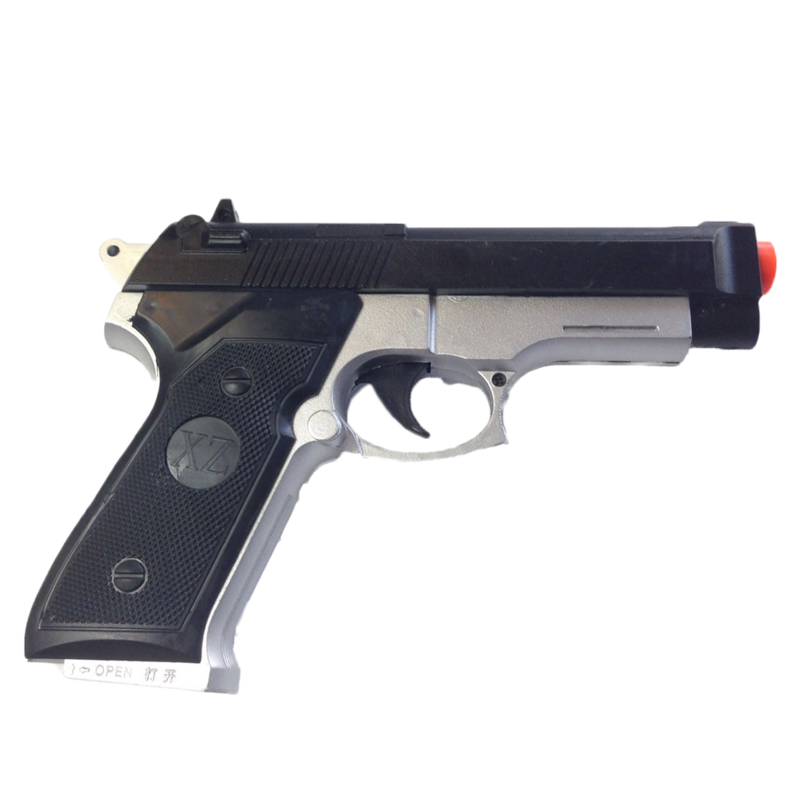Arma Falsa: (21, 191, 783, 688)
